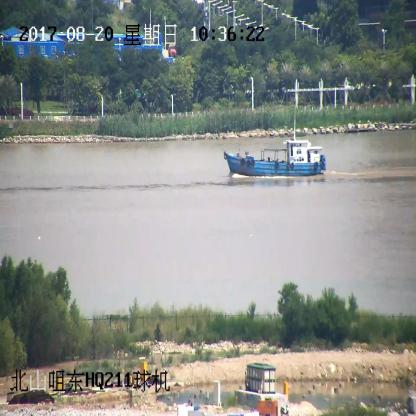Fishing Boat: (224, 114, 327, 178)
